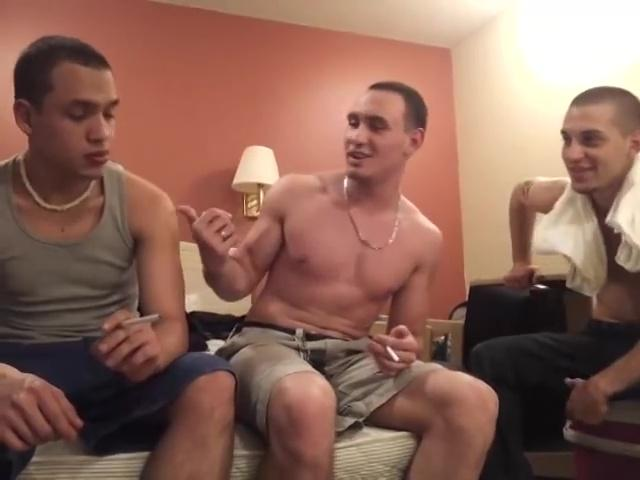cigarette: (112, 311, 164, 332), (385, 344, 404, 363)
